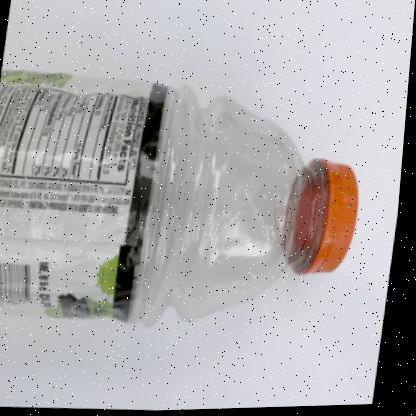Plastic: (0, 69, 362, 327)
